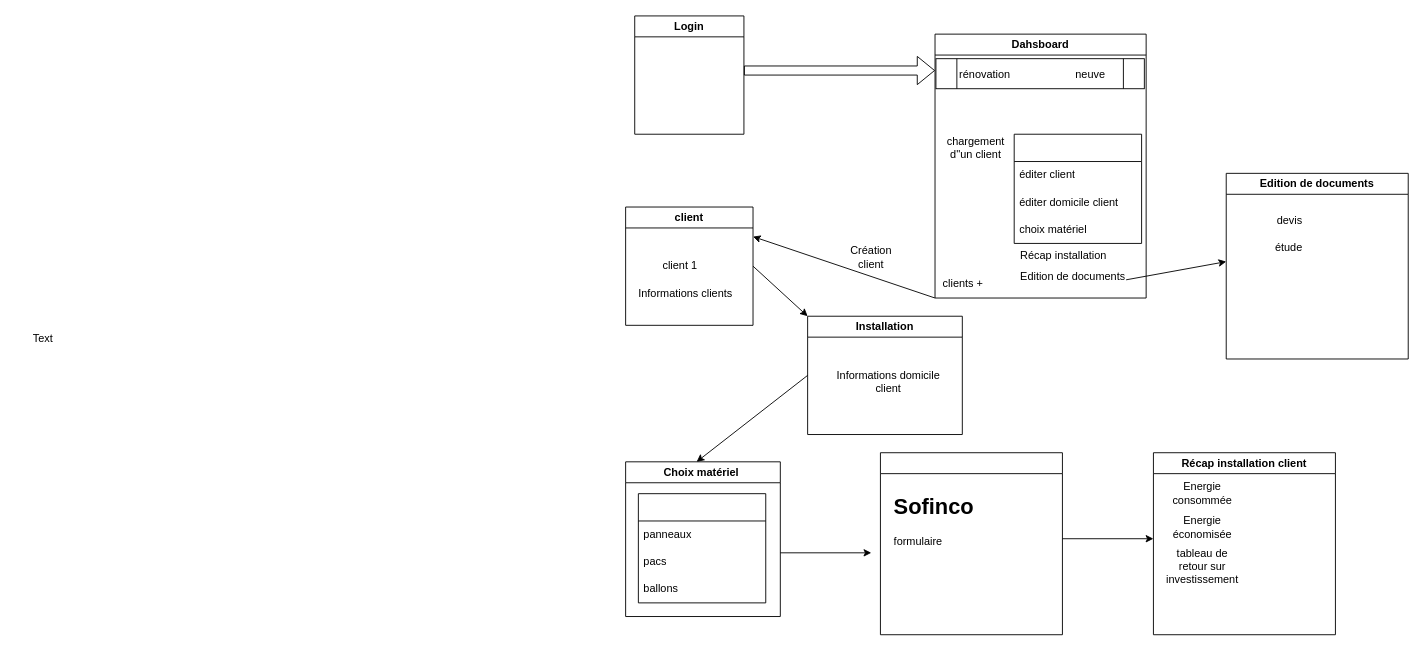
The diagram is 1424 pixels wide and 651 high, and some of its shapes have lost their labels. The shapes that lost their labels are listed below. From the top down, each one's box as (x1, y1, x2, y2) in pixels, then its label:
(1013, 133, 1142, 243): client sélectionné
(637, 493, 766, 603): Liste matériel
(880, 452, 1062, 635): Financement
